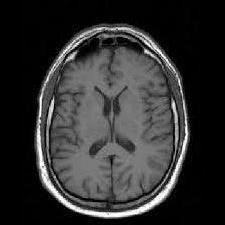Normal_Brain: (41, 16, 188, 225)
